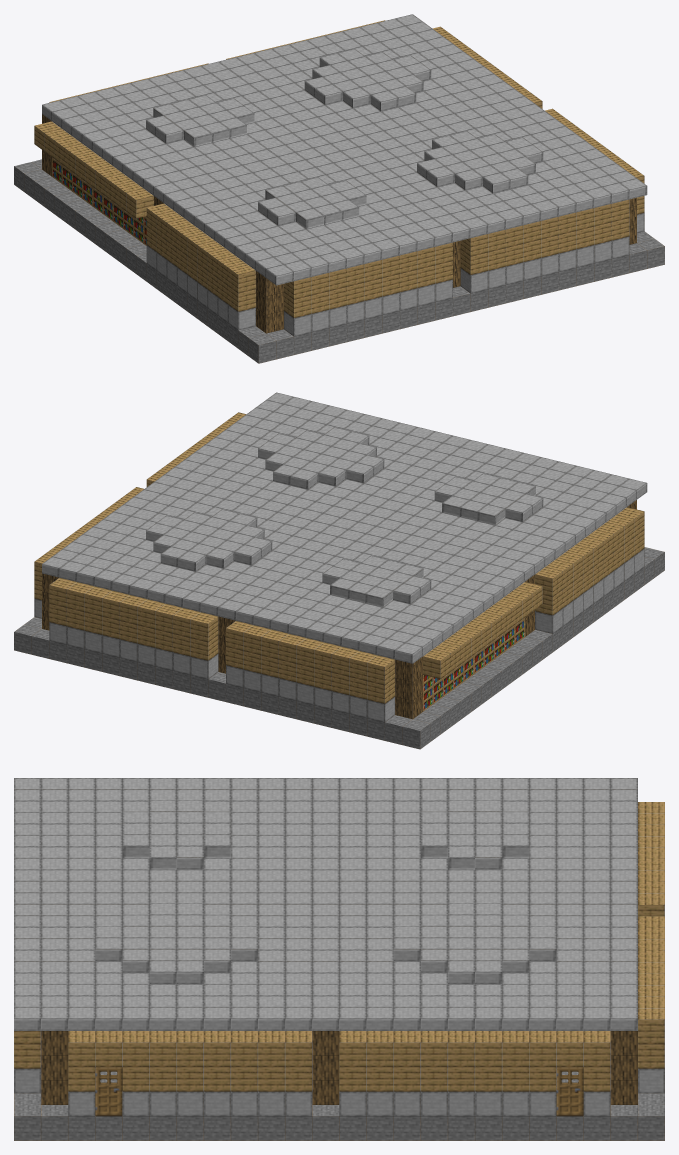
Rendered from LibraryMap.fbx.
3 views of the same model, one above another, from view 1: azimuth 30°, elevation 25°; view 2: azimuth 150°, elevation 25°; view 3: azimuth 270°, elevation 25° (orthographic). The views are drawn at different scales.
Visible parts, largest first — view 1: Top, Ground, Wall.011, Wall.009, Wall.007, Wall.005, Wall.004, Wall.008, Wall.013, Wall.014; view 2: Top, Ground, Wall.001, Wall, Wall.007, Wall.005, Wall.004, Wall.014, Wall.013, Wall.003; view 3: Top, Wall.014, Wall.013, Ground, Wall.001, Wall, Wall.016, Wall.015, Wall.012, Wall.011.
Part boxes in pixels (x1=…): Top: x1=42, y1=14, x2=647, y2=285; Ground: x1=14, y1=159, x2=664, y2=363; Wall.011: x1=460, y1=199, x2=629, y2=293; Wall.009: x1=284, y1=242, x2=452, y2=336; Wall.007: x1=146, y1=203, x2=255, y2=330; Wall.005: x1=34, y1=121, x2=153, y2=218; Wall.004: x1=42, y1=150, x2=146, y2=245; Wall.008: x1=256, y1=271, x2=283, y2=333; Wall.013: x1=545, y1=108, x2=644, y2=232; Wall.014: x1=433, y1=26, x2=542, y2=108; Top: x1=42, y1=392, x2=647, y2=663; Ground: x1=14, y1=547, x2=664, y2=749; Wall.001: x1=49, y1=577, x2=218, y2=679; Wall: x1=226, y1=621, x2=394, y2=722; Wall.007: x1=535, y1=507, x2=644, y2=633; Wall.005: x1=423, y1=582, x2=542, y2=678; Wall.004: x1=395, y1=617, x2=524, y2=719; Wall.014: x1=34, y1=487, x2=143, y2=618; Wall.013: x1=146, y1=412, x2=245, y2=486; Wall.003: x1=395, y1=656, x2=422, y2=682; Top: x1=14, y1=778, x2=637, y2=1030; Wall.014: x1=339, y1=1031, x2=610, y2=1116; Wall.013: x1=68, y1=1031, x2=312, y2=1116; Ground: x1=14, y1=1071, x2=664, y2=1140; Wall.001: x1=638, y1=916, x2=664, y2=1093; Wall: x1=638, y1=802, x2=664, y2=916; Wall.016: x1=610, y1=1031, x2=637, y2=1104; Wall.015: x1=312, y1=1031, x2=339, y2=1104; Wall.012: x1=41, y1=1031, x2=68, y2=1104; Wall.011: x1=14, y1=1031, x2=40, y2=1093.
Bounding box in the file's own units: 288 × 62.5 × 300.
1 material, 1 textured.
